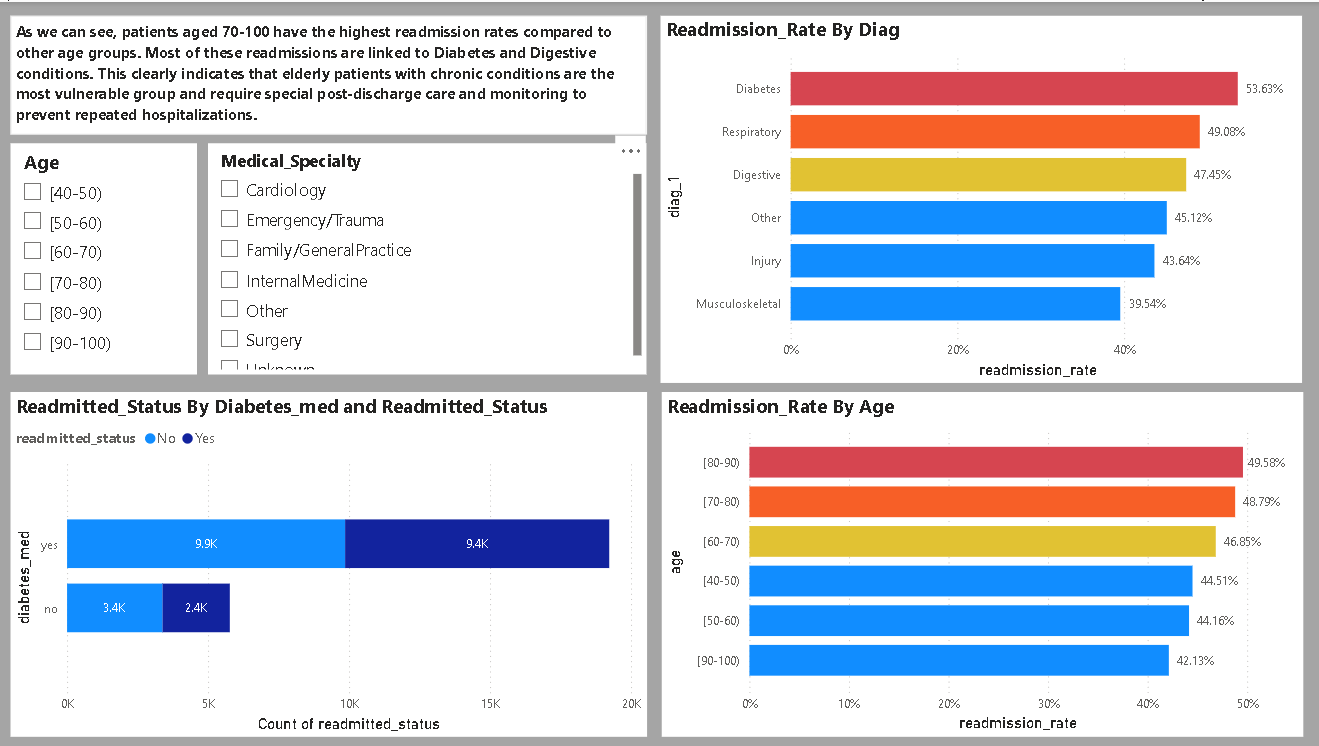

The page's visual inventory and layout, read from the dashboard file:
{"tool":"powerbi","page":{"name":"Page 2","canvas":[1280,720],"ordinal":1},"visuals":[{"type":"clusteredBarChart","title":"Readmission_Rate By Age","fields":{"Category":["healthcare_cleaned.age"],"Y":["healthcare_cleaned.readmission_rate"]},"box":[640.6,376.4,618.9,333],"z":0},{"type":"clusteredBarChart","title":"Readmission_Rate By Diag","fields":{"Y":["healthcare_cleaned.readmission_rate"],"Category":["healthcare_cleaned.diag_1"]},"box":[639.4,13.3,618.9,354.7],"z":1000},{"type":"barChart","title":"Readmitted_Status By Diabetes_med and Readmitted_Status","fields":{"Category":["healthcare_cleaned.diabetes_med"],"Series":["healthcare_cleaned.readmitted_status"],"Y":["CountNonNull(healthcare_cleaned.readmitted_status)"]},"box":[12.1,376.4,614.1,333],"z":2000},{"type":"slicer","fields":{"Values":["healthcare_cleaned.age"]},"box":[12.1,136.3,179.8,223.2],"z":3000},{"type":"slicer","fields":{"Values":["healthcare_cleaned.medical_specialty"]},"box":[202.7,136.3,423.5,223.2],"z":4000},{"type":"textbox","box":[12.1,13.3,614.1,114.6],"z":5000}]}

Visuals, with their boxes in screenshot pixels (x1, y1, x2, y2), scaled from the page's 1280x720 canvas onto the 1319x746 screenshot:
"Readmission_Rate By Age" clusteredBarChart: BBox(660, 390, 1298, 735)
"Readmission_Rate By Diag" clusteredBarChart: BBox(659, 14, 1297, 381)
"Readmitted_Status By Diabetes_med and Readmitted_Status" barChart: BBox(12, 390, 645, 735)
slicer - healthcare_cleaned.age: BBox(12, 141, 198, 372)
slicer - healthcare_cleaned.medical_specialty: BBox(209, 141, 645, 372)
textbox: BBox(12, 14, 645, 133)
